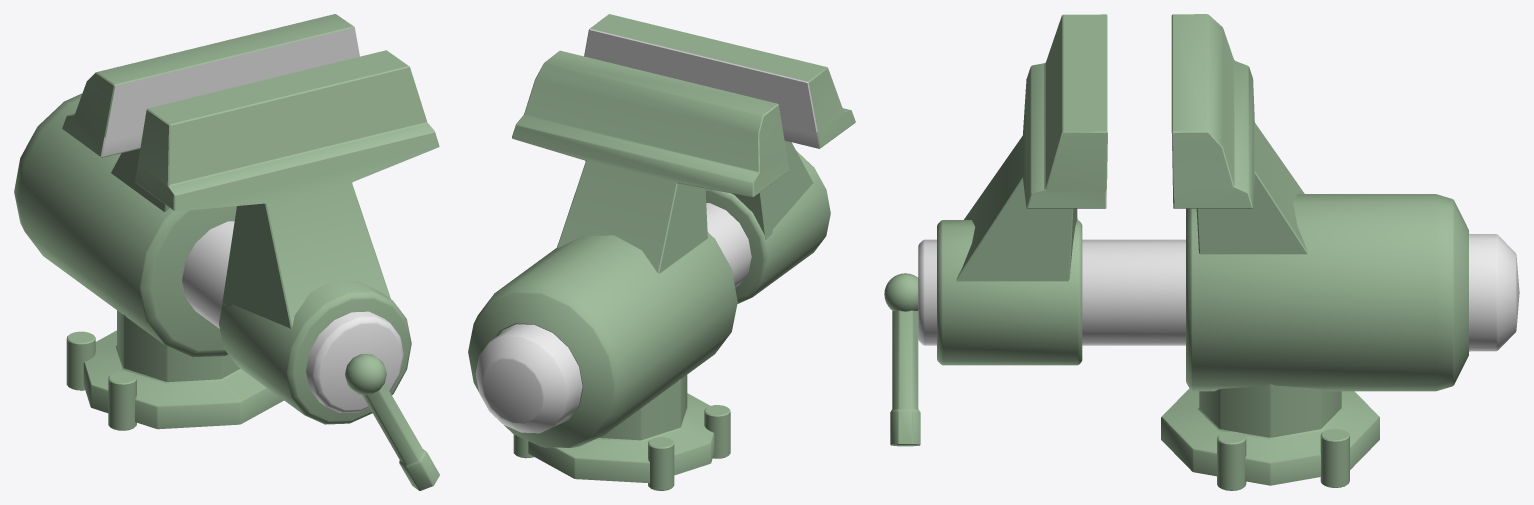
The model's file is vice_grip.glb.
The picture shows the model from 3 angles, left to right: view 1: azimuth 30°, elevation 25°; view 2: azimuth 150°, elevation 25°; view 3: azimuth 270°, elevation 25°; orthographic projection. The views are drawn at different scales.
Parts seen in each view (by area): view 1: ViceGrip; view 2: ViceGrip; view 3: ViceGrip.
Part boxes in pixels (x1,y1,x2,y2): ViceGrip: [14, 14, 439, 490]; ViceGrip: [468, 14, 855, 490]; ViceGrip: [884, 14, 1519, 490].
Bounding box in the file's own units: 0.1757 × 0.2345 × 0.3623.
